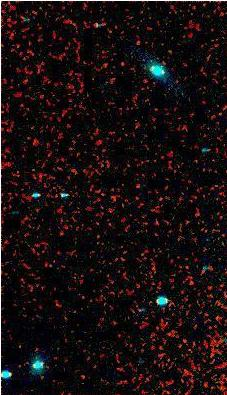star: (123, 169, 153, 199)
